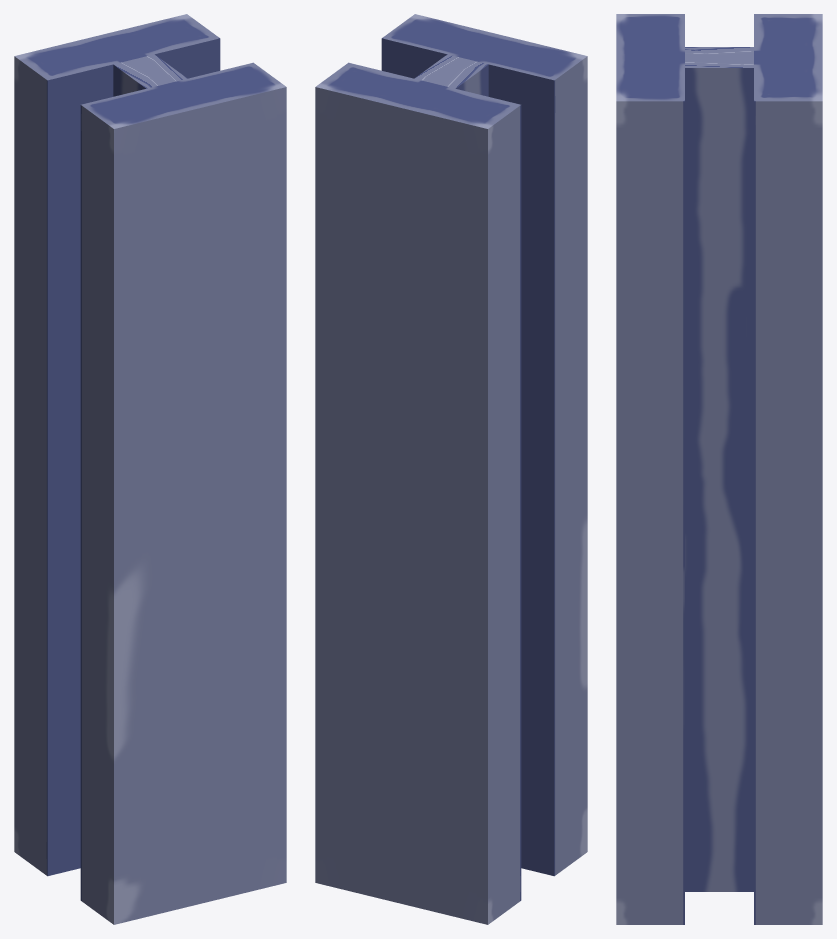
File: viga.fbx
3 views of the same model, side by side, from view 1: azimuth 30°, elevation 25°; view 2: azimuth 150°, elevation 25°; view 3: azimuth 270°, elevation 25° (orthographic). The views are drawn at different scales.
Parts seen in each view (by area): view 1: Cube; view 2: Cube; view 3: Cube.
Part boxes in pixels (x1,y1,x2,y2): Cube: [14, 14, 286, 924]; Cube: [315, 14, 587, 924]; Cube: [616, 14, 822, 924].
Size of the model in its own units: 89.75 by 395 by 89.75.
